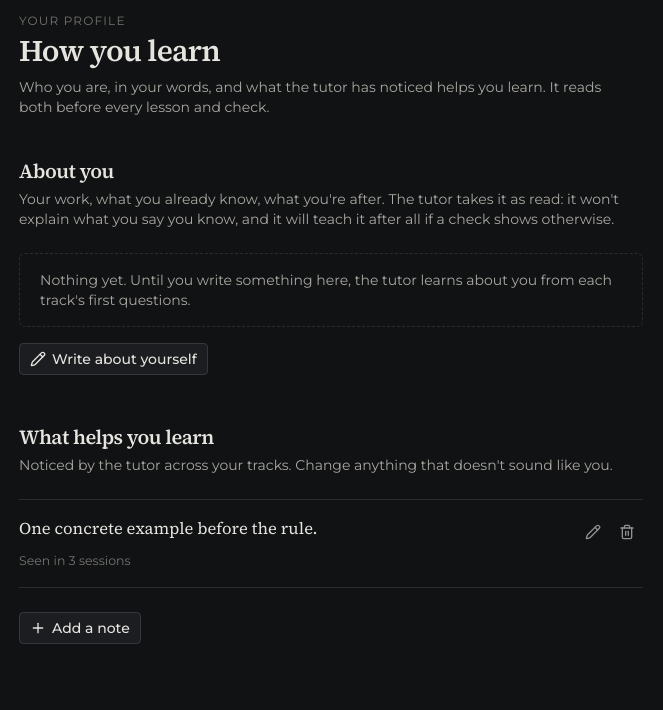
Test case: the teaching notes page (design §8) › saves a note the learner changes
This screenshot has width=663, height=710.
Click the button named "Edit this note".
click(593, 532)  # box x1=577 y1=516 x2=609 y2=548
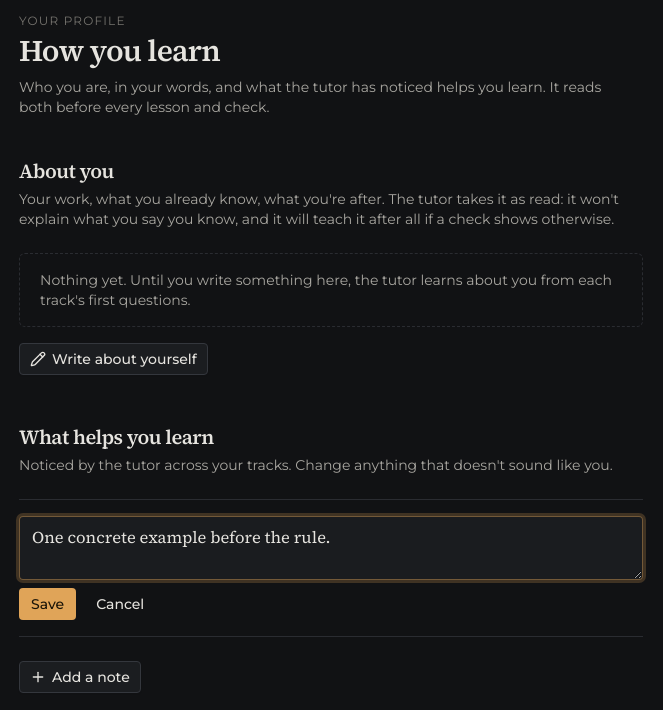
Replace the text in the text box named "The note" with "Pictures first." at (331, 548), box x1=19 y1=516 x2=643 y2=580
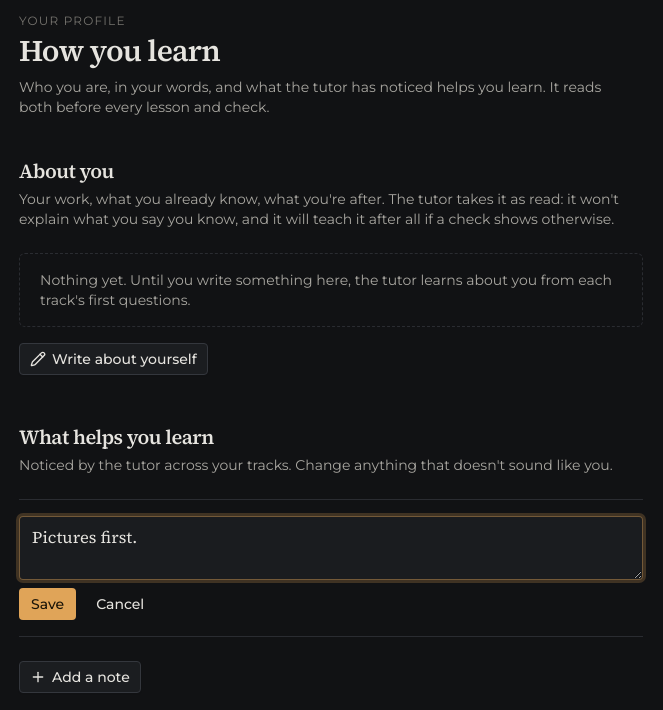
Click the button "Save".
click(48, 604)  # box x1=19 y1=588 x2=76 y2=620
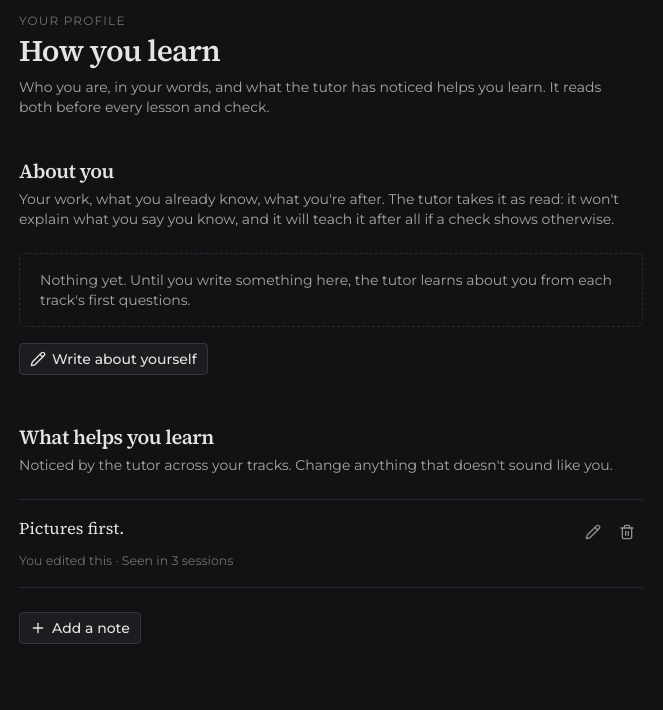
Check: the text "Pictures first." is shown, box x1=19 y1=517 x2=124 y2=540
Check: the text "You edited this" is shown, box x1=19 y1=553 x2=112 y2=568
